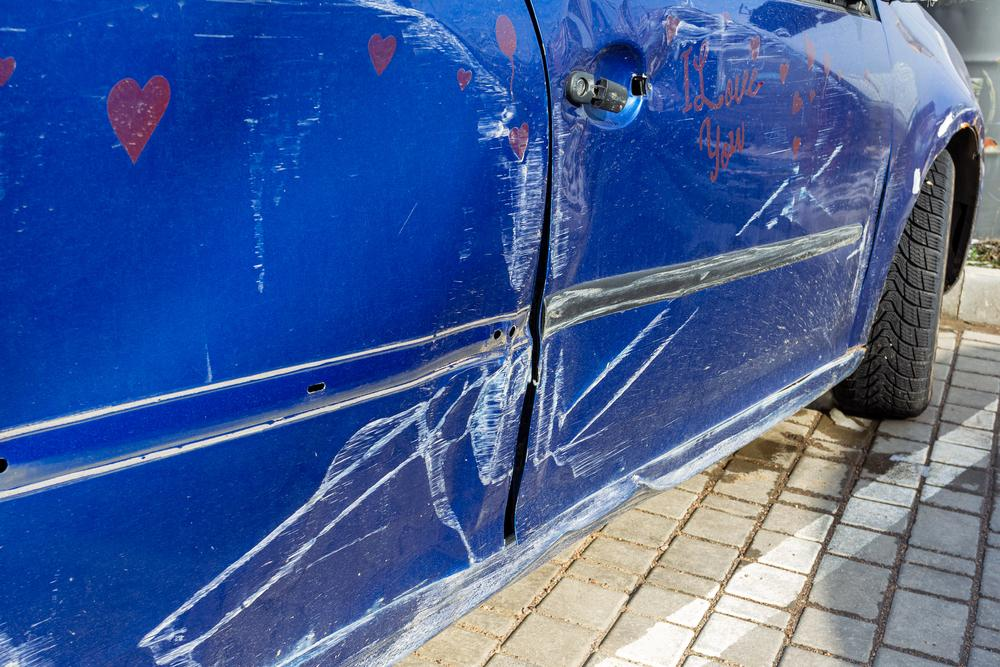dent: (34, 0, 512, 406)
scratch: (134, 130, 550, 667), (516, 62, 855, 574), (550, 107, 590, 280), (0, 622, 69, 667)
